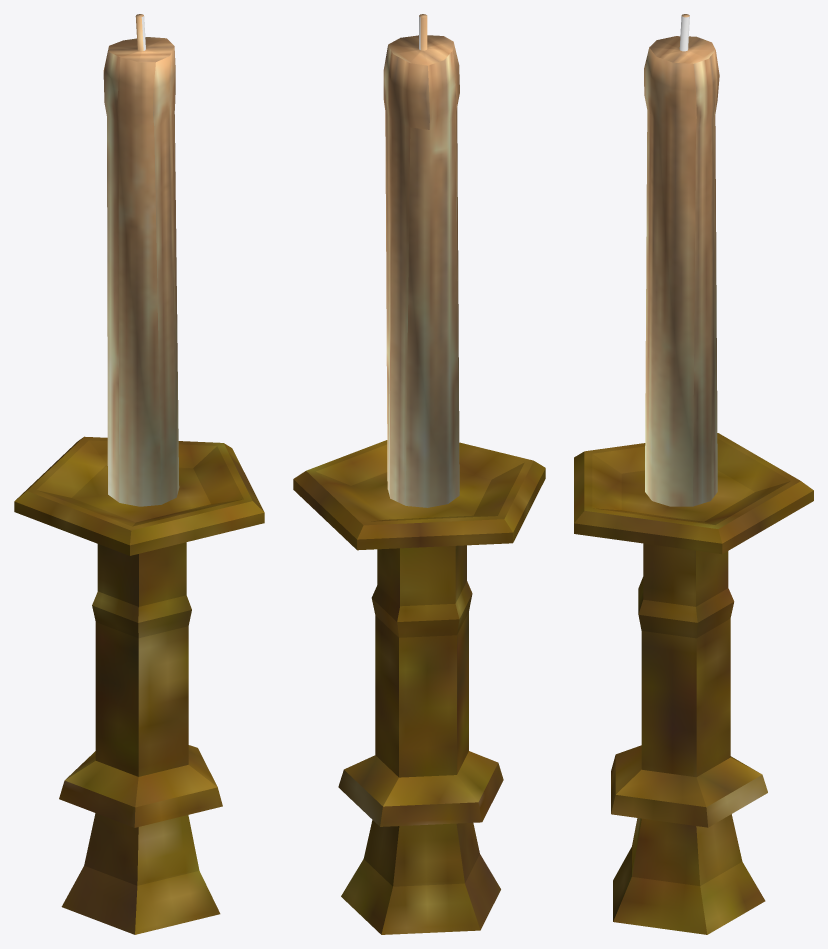
The model's file is Candle.fbx.
The picture shows the model from 3 angles, left to right: view 1: azimuth 30°, elevation 25°; view 2: azimuth 150°, elevation 25°; view 3: azimuth 270°, elevation 25°; orthographic projection.
Visible parts, largest first — view 1: candle; view 2: candle; view 3: candle.
Boxes of the visible parts, x1,y1,x2,y2 form: candle: [14, 14, 264, 934]; candle: [293, 14, 545, 934]; candle: [574, 14, 813, 934].
Size of the model in its own units: 0.1351 by 0.5228 by 0.1285.
